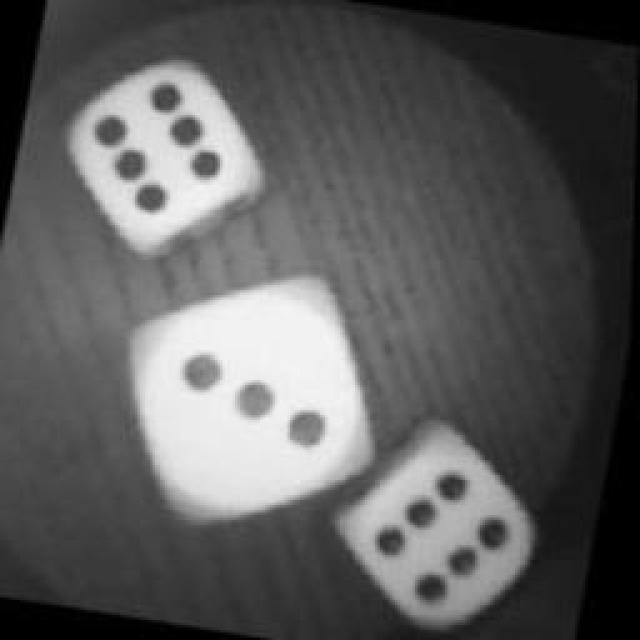dice_3: (95, 241, 415, 559)
dice_6: (40, 36, 285, 282), (330, 402, 562, 640)
